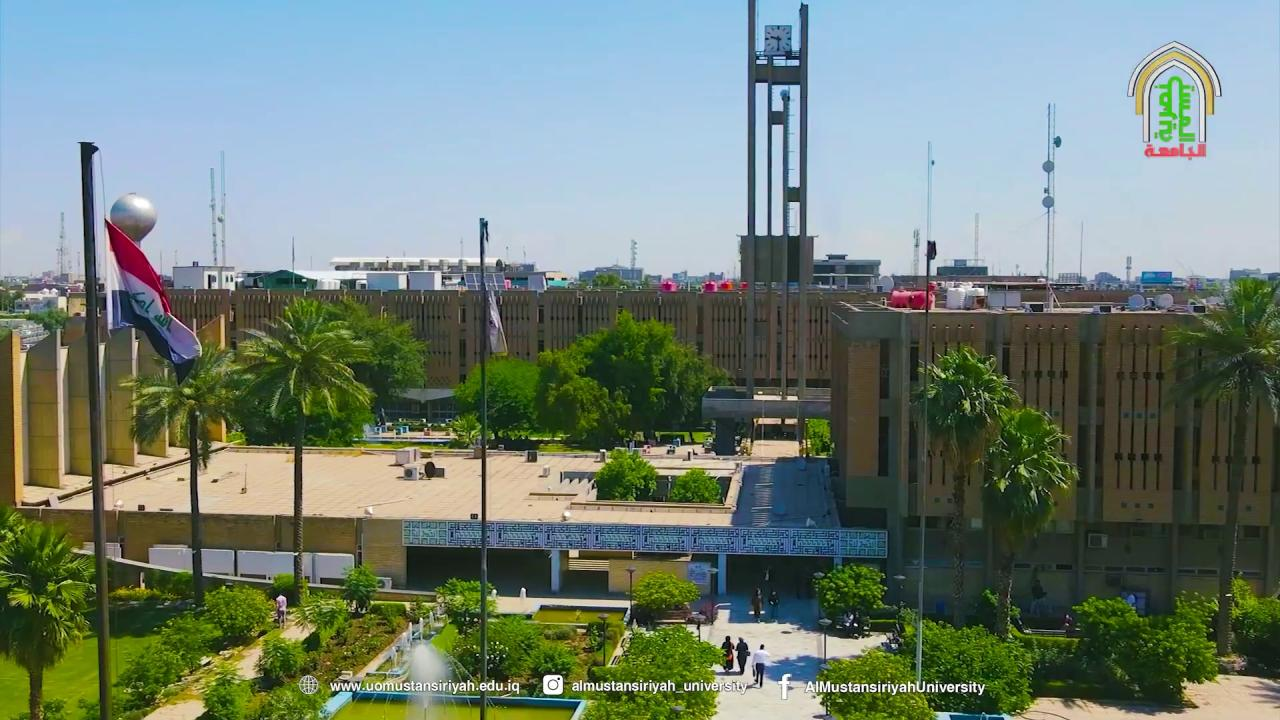fountain: (317, 618, 586, 718), (933, 711, 1011, 719)
person: (751, 643, 770, 688), (734, 636, 749, 675), (720, 634, 734, 672), (274, 593, 287, 629), (752, 588, 764, 624), (768, 589, 779, 623), (842, 610, 852, 637), (1062, 613, 1073, 637)
tree: (1156, 274, 1280, 659), (229, 297, 376, 605), (117, 337, 248, 607), (908, 343, 1019, 629), (533, 308, 735, 449), (977, 404, 1080, 639), (0, 503, 97, 719), (1068, 590, 1219, 703), (322, 294, 428, 435), (581, 622, 726, 719), (910, 618, 1037, 716), (532, 346, 631, 449), (810, 646, 936, 719), (450, 354, 541, 447), (448, 613, 543, 687), (813, 562, 887, 632), (201, 582, 275, 644), (153, 610, 223, 673), (628, 569, 702, 626), (434, 576, 497, 632), (593, 448, 658, 502), (254, 633, 315, 688), (339, 562, 381, 614), (669, 467, 722, 503), (403, 595, 435, 641), (271, 572, 310, 606), (449, 411, 482, 449), (802, 417, 833, 457)
